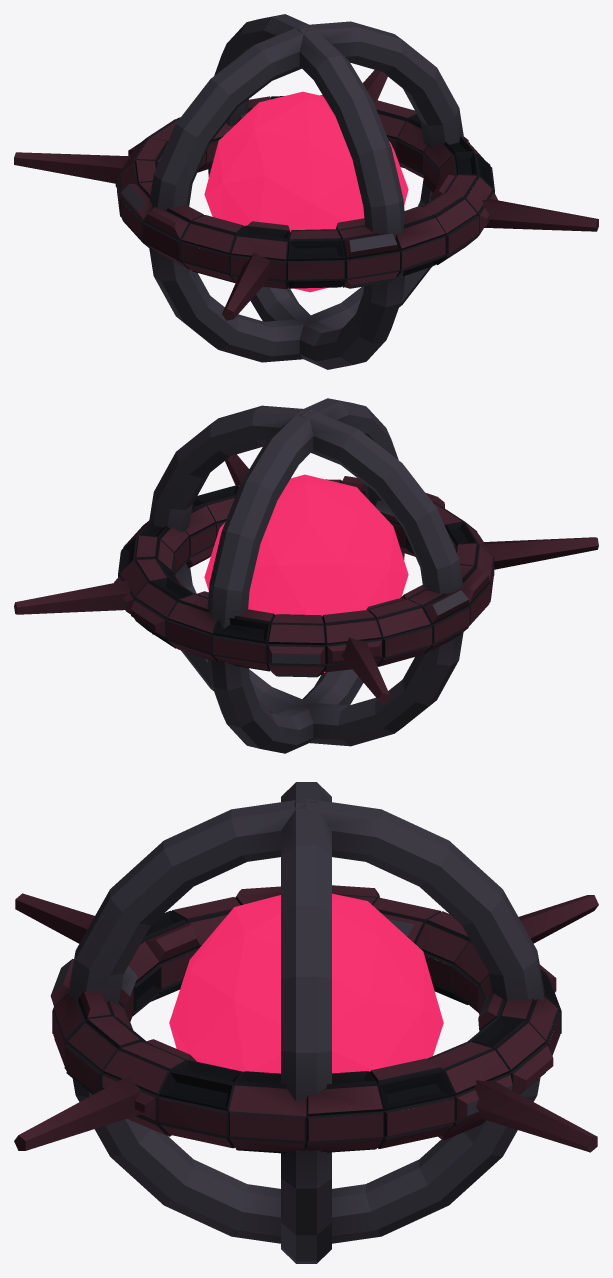
Rendered from tractorEmitter.glb.
3 renders of one model, top to bottom at view 1: azimuth 30°, elevation 25°; view 2: azimuth 150°, elevation 25°; view 3: azimuth 270°, elevation 25°, orthographic. The views are drawn at different scales.
Parts seen in each view (by area): view 1: tractorEmitter; view 2: tractorEmitter; view 3: tractorEmitter.
Boxes of the visible parts, bbox=[...] form: tractorEmitter: bbox=[14, 14, 598, 369]; tractorEmitter: bbox=[14, 398, 598, 753]; tractorEmitter: bbox=[14, 782, 598, 1263].
Bounding box in the file's own units: 110 × 91.29 × 110.
